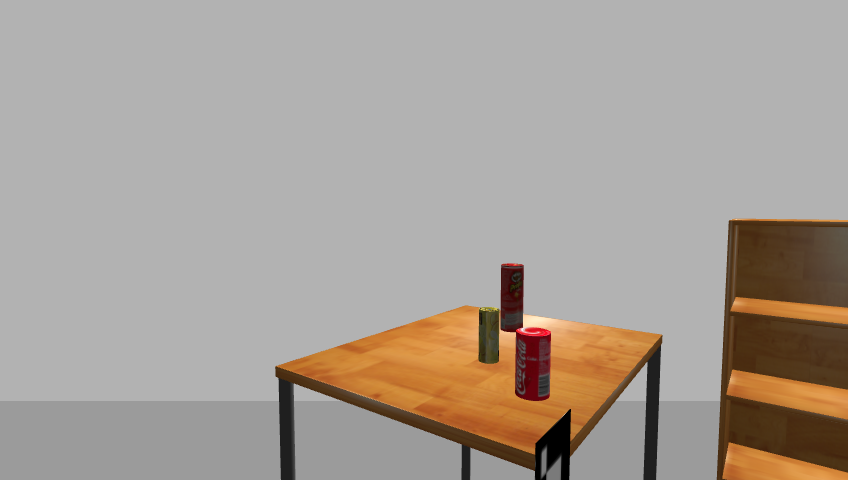aruco marker: (531, 410, 574, 480)
biscuits pack: (477, 307, 500, 365)
bookshelf: (714, 219, 848, 479)
coke can: (514, 328, 553, 401)
dinner table: (266, 307, 670, 479)
pringles can: (498, 262, 526, 336)
